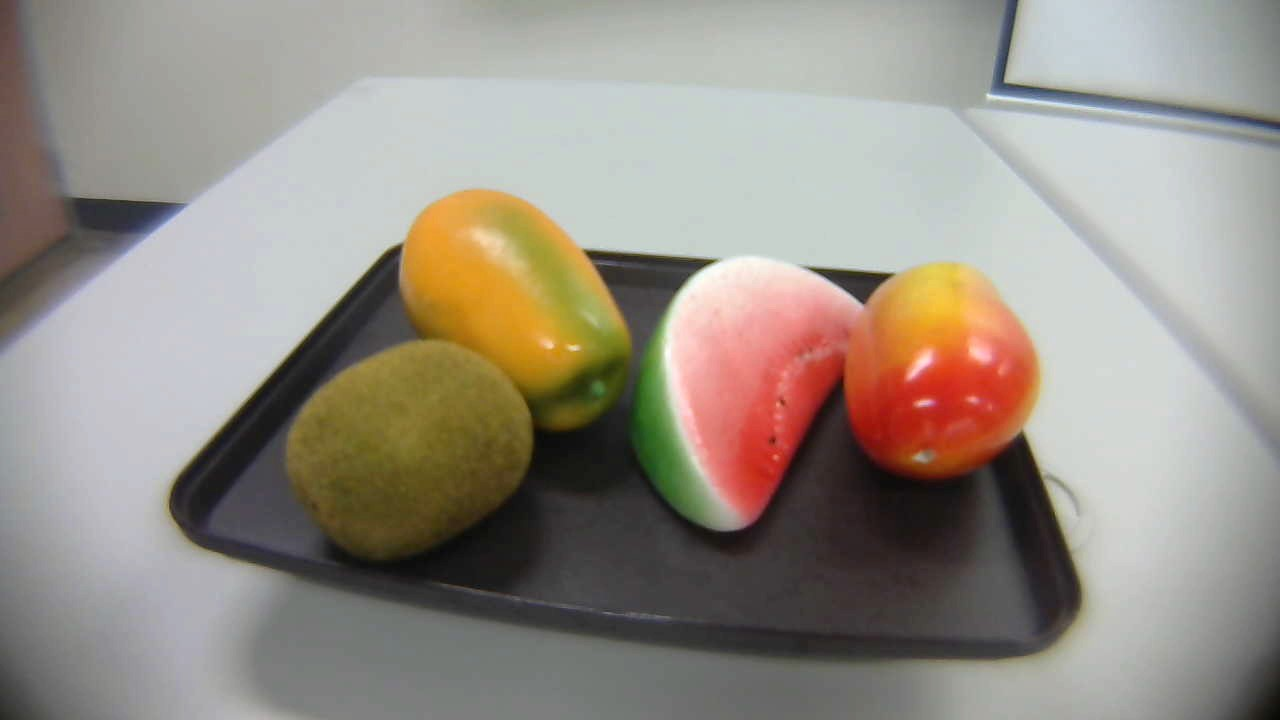kiwi fruit: (286, 335, 540, 571)
papya: (393, 191, 635, 429)
red mango: (837, 258, 1052, 507)
water melon: (630, 239, 873, 547)
